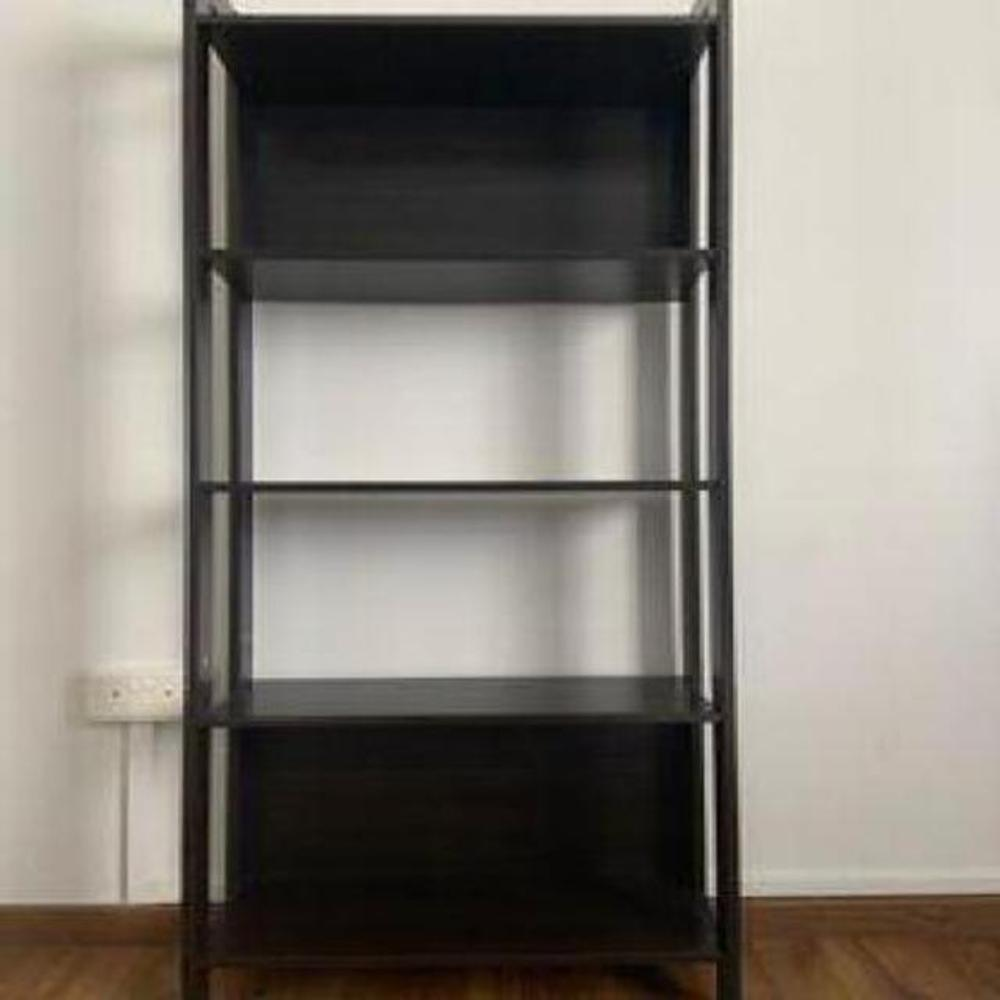lamp: (175, 1, 746, 997)
